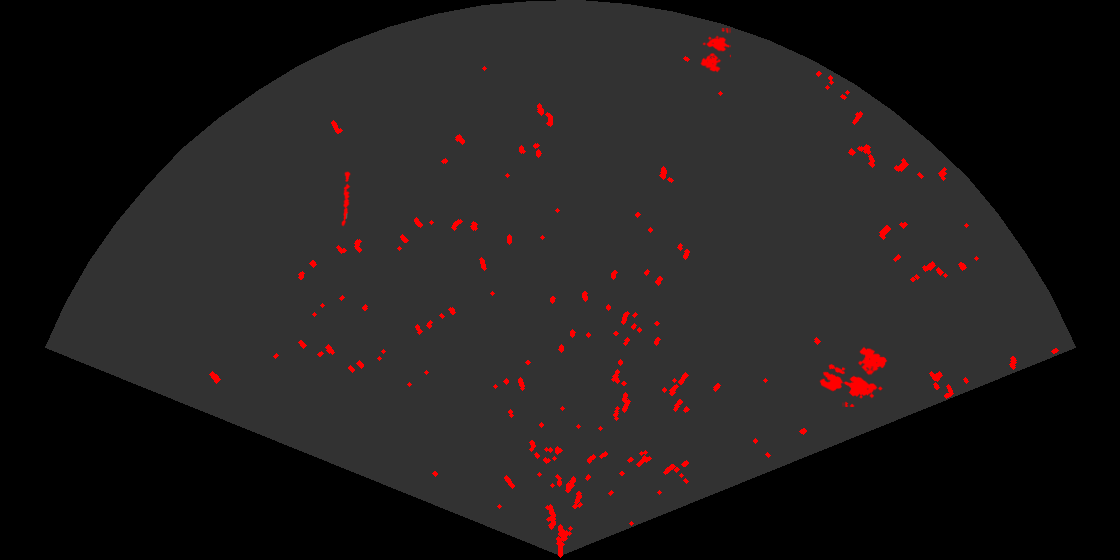ball: (818, 362, 847, 393)
cage: (842, 345, 889, 407), (699, 28, 731, 74)
chain: (340, 171, 352, 227)
